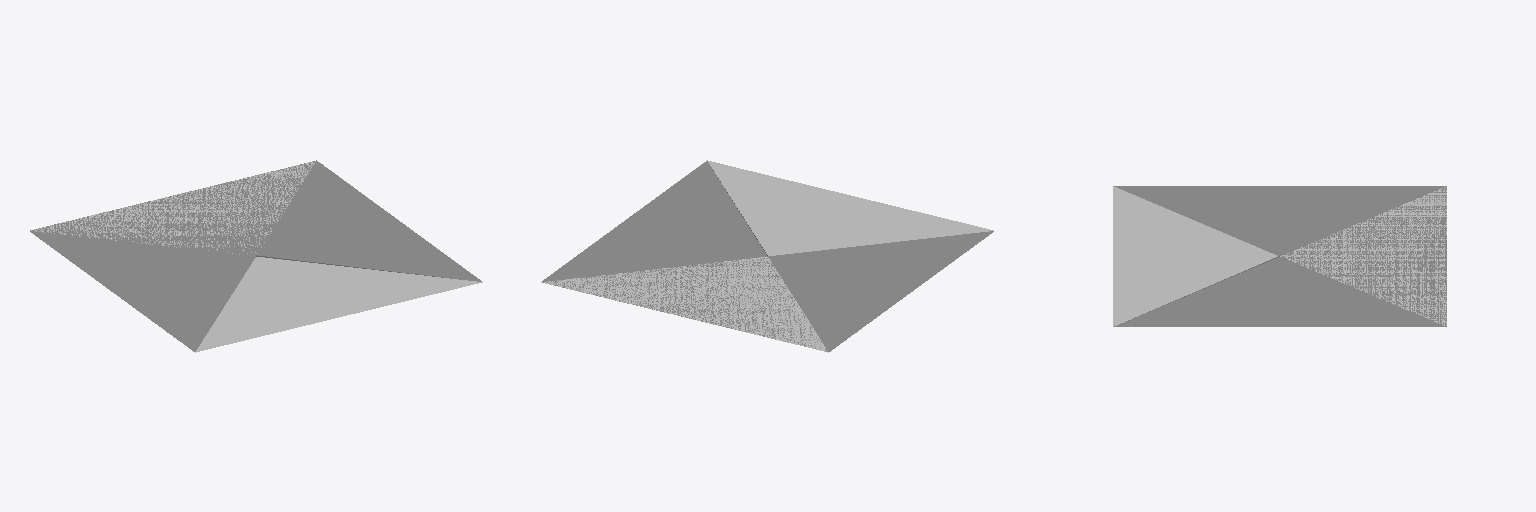
File: frame6.obj
3 renders of one model, left to right at view 1: azimuth 30°, elevation 25°; view 2: azimuth 150°, elevation 25°; view 3: azimuth 270°, elevation 25°, orthographic.
Parts seen in each view (by area): view 1: Cube, ground; view 2: Cube, ground; view 3: Cube, ground.
Part boxes in pixels (x1,y1,x2,y2): Cube: (30, 160, 481, 351); ground: (31, 161, 482, 352); Cube: (542, 161, 993, 351); ground: (541, 160, 993, 352); Cube: (1114, 186, 1446, 326); ground: (1113, 186, 1446, 326).
Bounding box in the file's own units: 2000 × 7 × 2000.